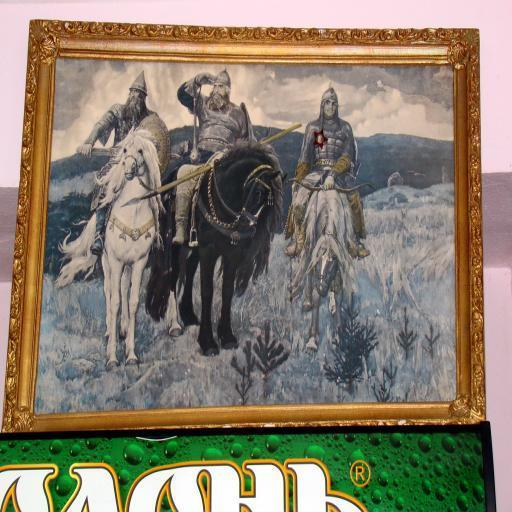horse: (142, 138, 288, 358), (52, 120, 167, 368), (288, 184, 358, 356)
